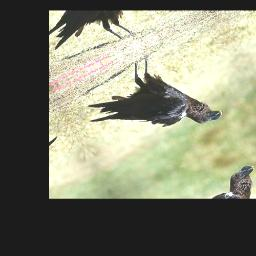Crow: (72, 39, 225, 168)
